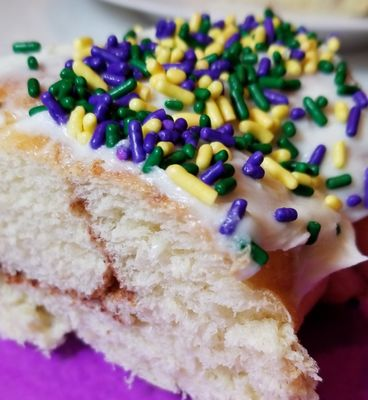sandwich: (4, 4, 364, 399)
